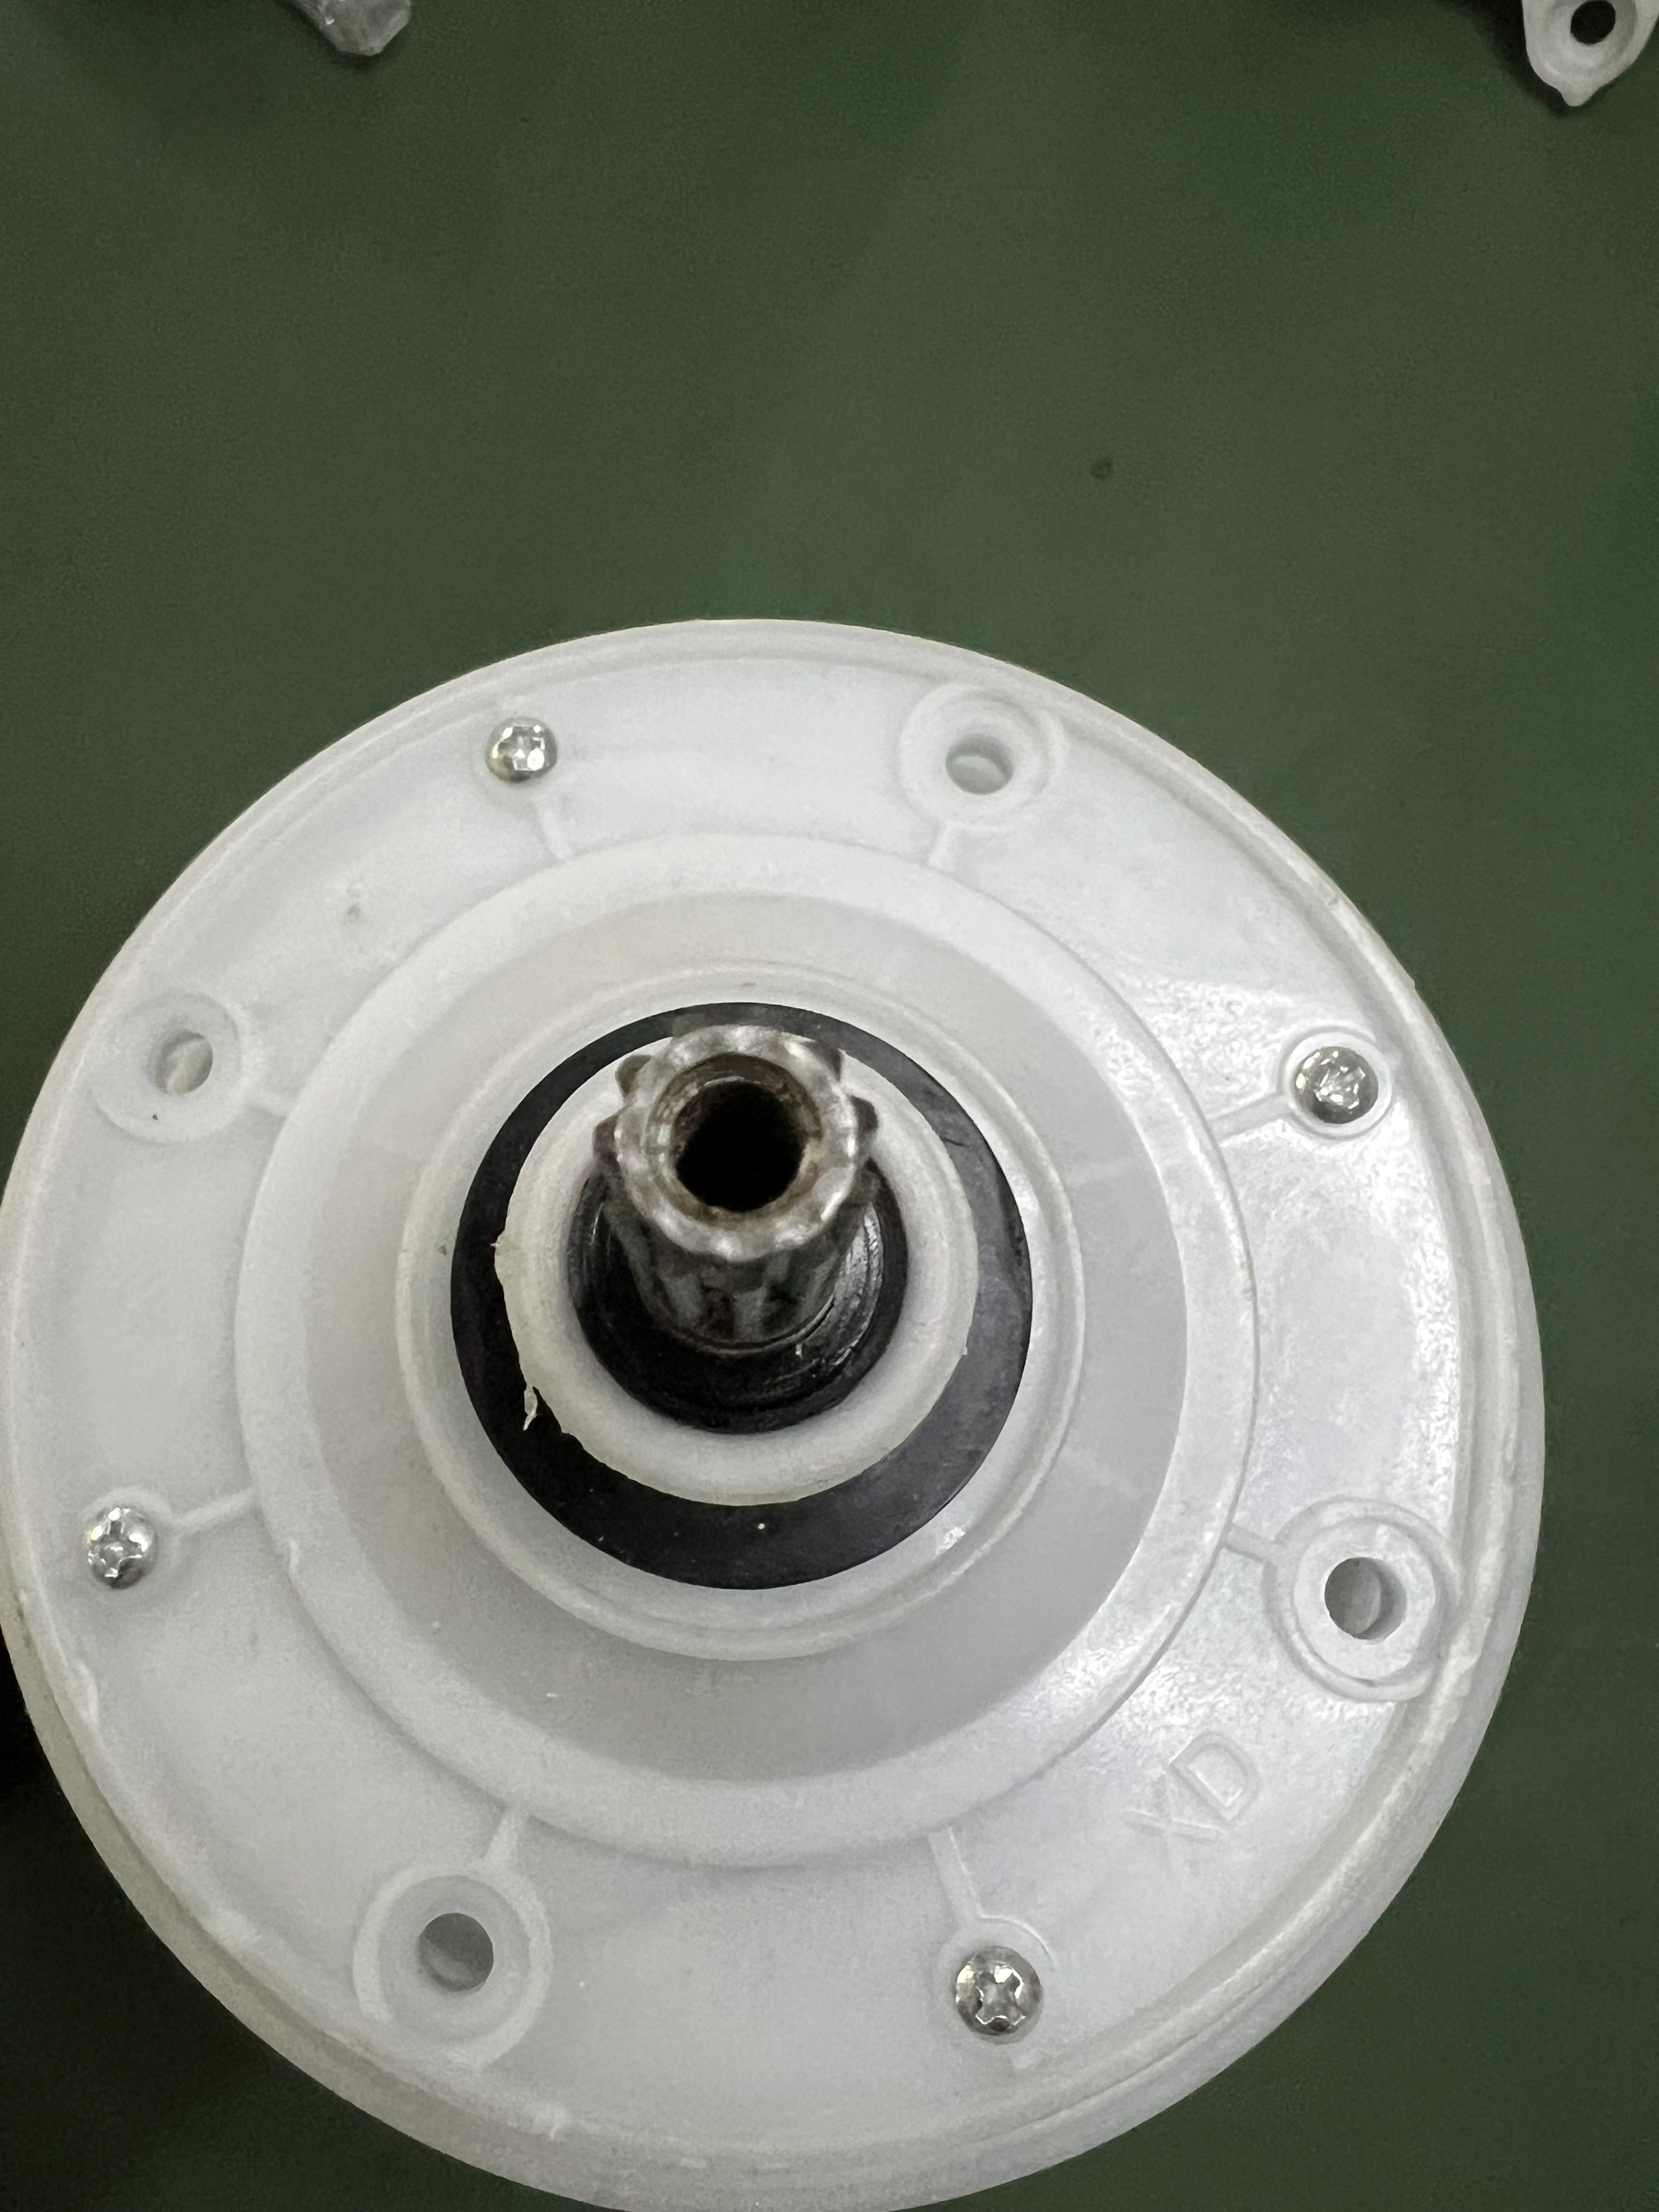gear_box_circle: (0, 613, 1551, 2200)
